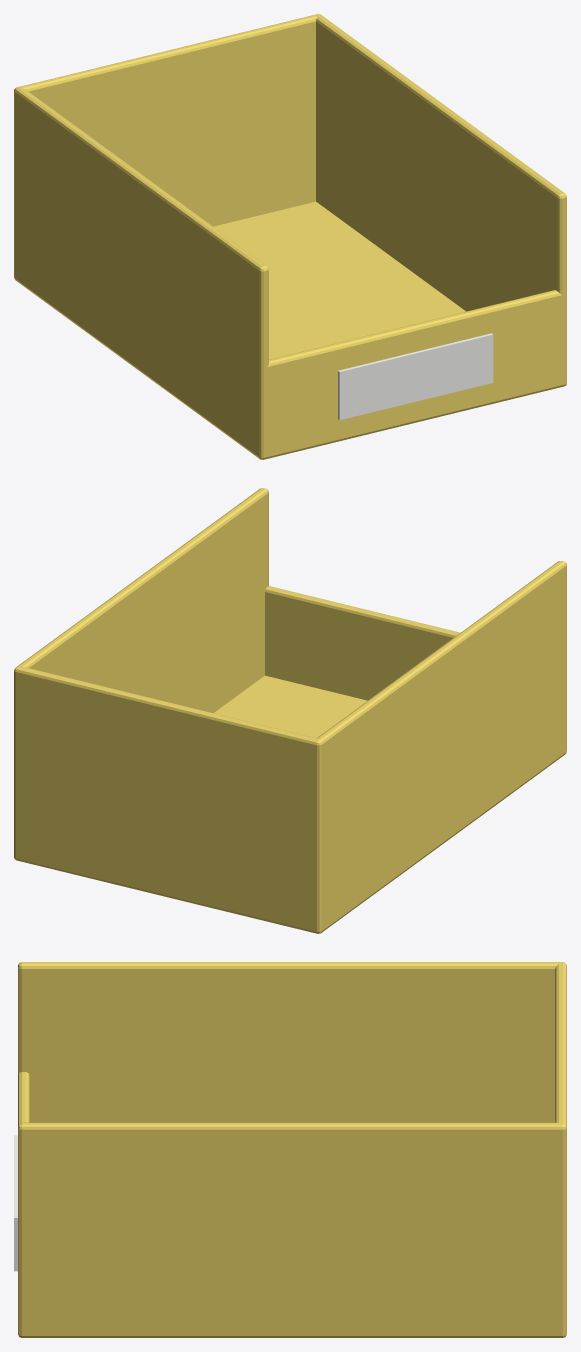
Rendered from part_bin_yellow.fbx.
The picture shows the model from 3 angles, top to bottom: view 1: azimuth 30°, elevation 25°; view 2: azimuth 150°, elevation 25°; view 3: azimuth 270°, elevation 25°; orthographic projection. The views are drawn at different scales.
Visible parts, largest first — view 1: part_bin_yellow; view 2: part_bin_yellow; view 3: part_bin_yellow.
Part boxes in pixels (x1,y1,x2,y2): part_bin_yellow: (14,14,566,459); part_bin_yellow: (14,488,566,933); part_bin_yellow: (14,962,566,1337).
Size of the model in its own units: 0.2 by 0.12 by 0.282.
